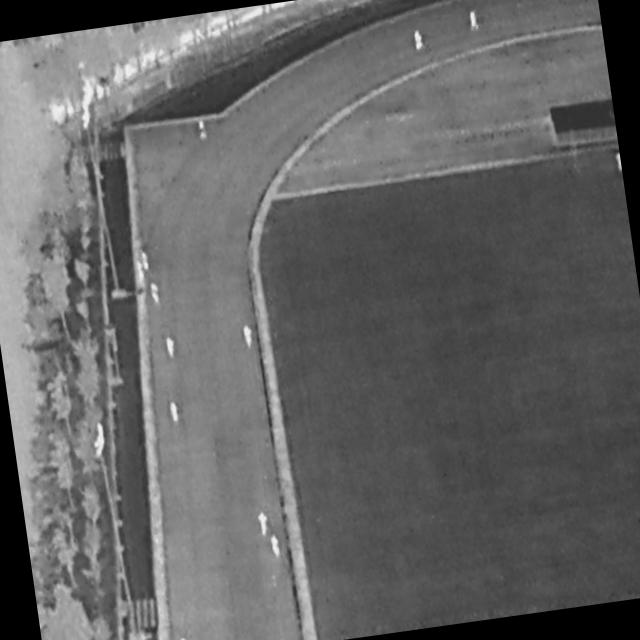person: (258, 513, 272, 538), (243, 325, 256, 349), (166, 336, 178, 360), (271, 535, 283, 559), (170, 402, 181, 425), (150, 283, 162, 304), (470, 11, 481, 32), (414, 30, 425, 51), (199, 121, 209, 142), (142, 252, 151, 272), (137, 261, 146, 281), (617, 153, 624, 172)
